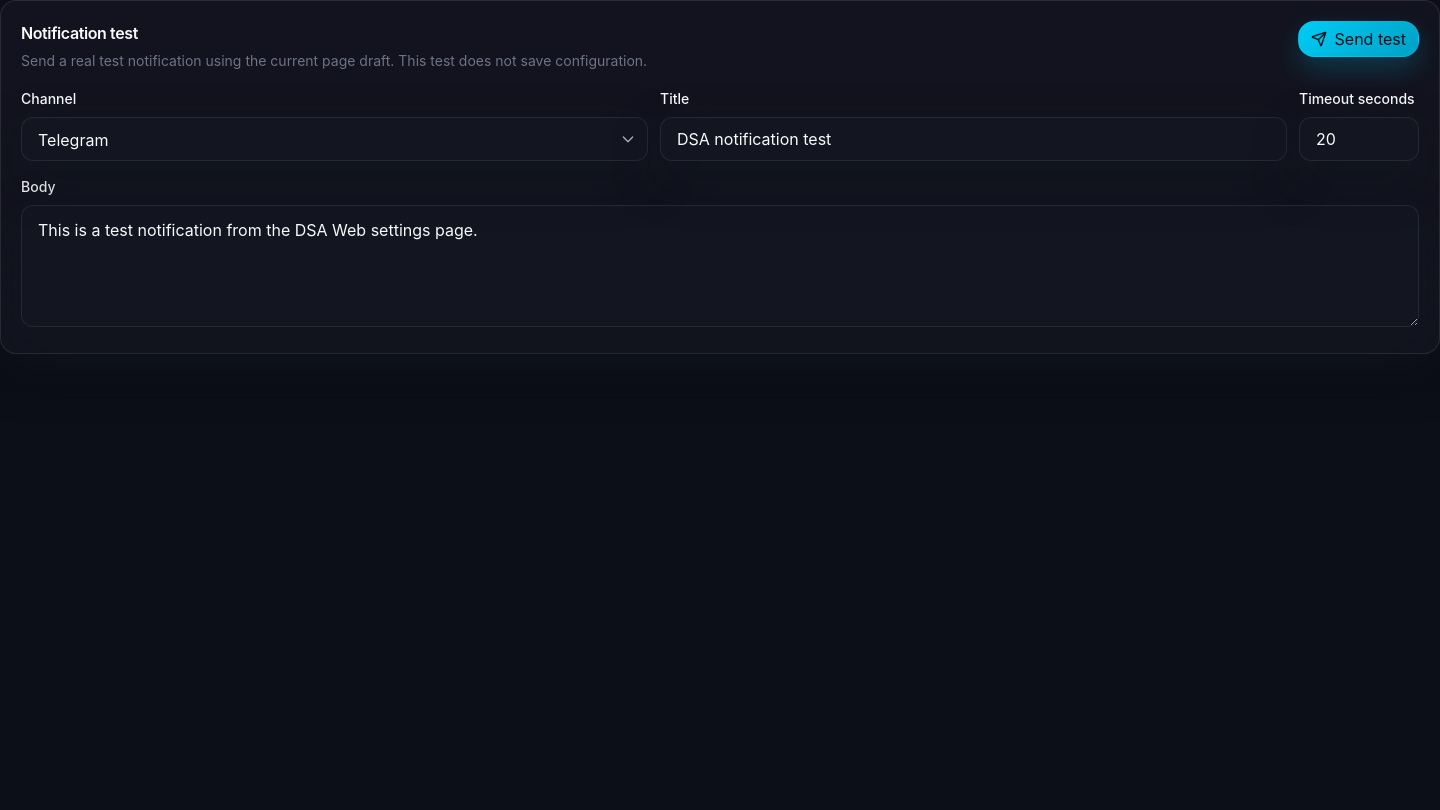
Scenario: NotificationTestPanel › renders custom webhook partial failure attempts
Select "Custom Webhook" in the dropdown labelled "Channel" at point(334, 139), box [21, 117, 648, 161]
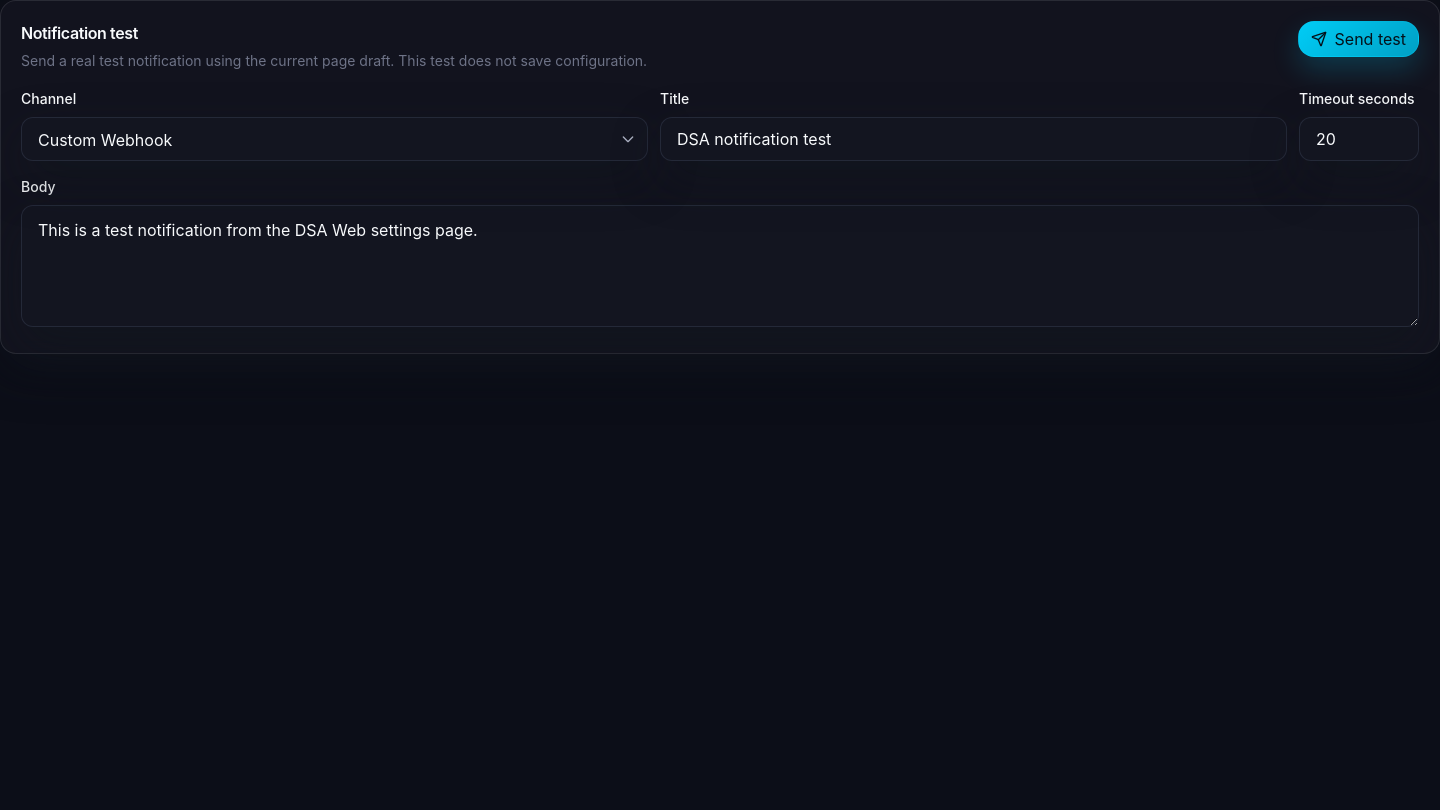
Click the button "Send test" at point(1358, 39), box [1298, 21, 1419, 57]
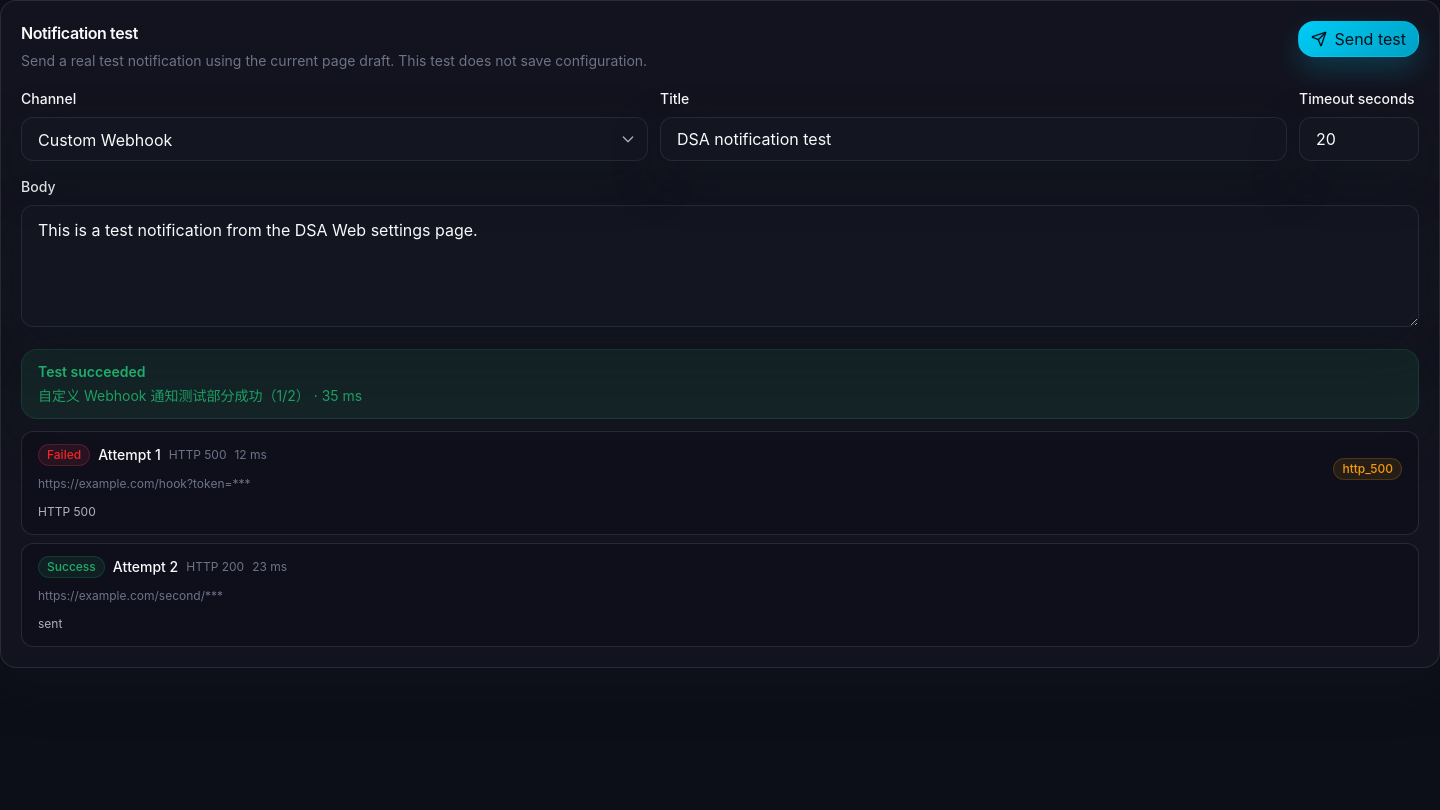
Result: the text "Test succeeded" is shown at [38, 363, 146, 380]
Result: the text "自定义 Webhook 通知测试部分成功（1/2） · 35 ms" is shown at [38, 387, 362, 404]
Result: the text "HTTP 200" is shown at [186, 559, 244, 575]
